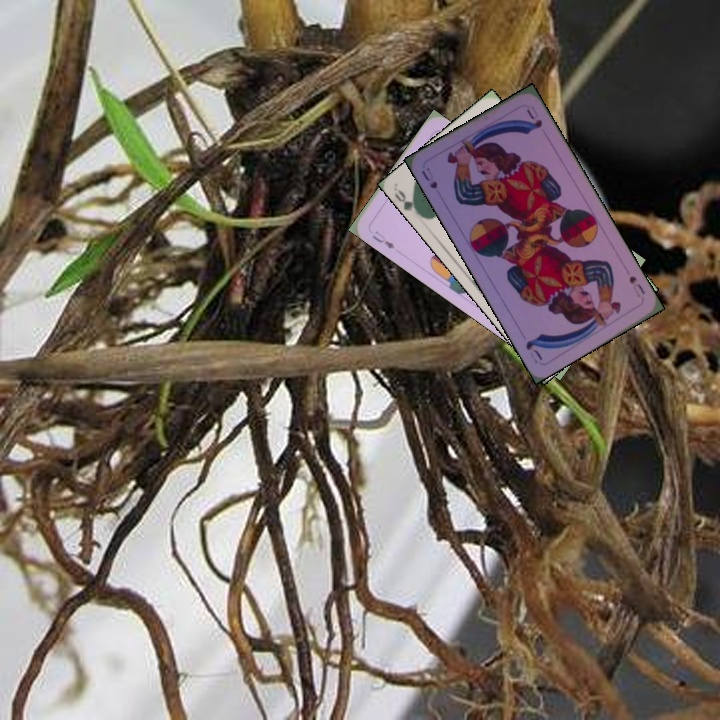EU: (368, 227, 397, 251)
GO: (392, 186, 424, 219)
SU: (417, 163, 440, 191), (625, 272, 648, 300)
